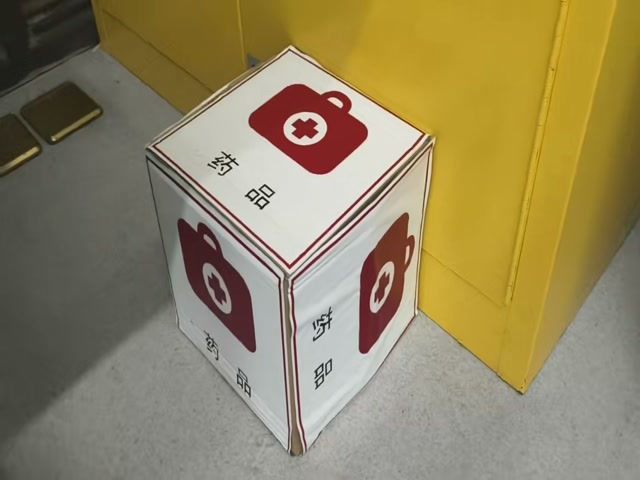Cube_medicine: (147, 47, 433, 285)
